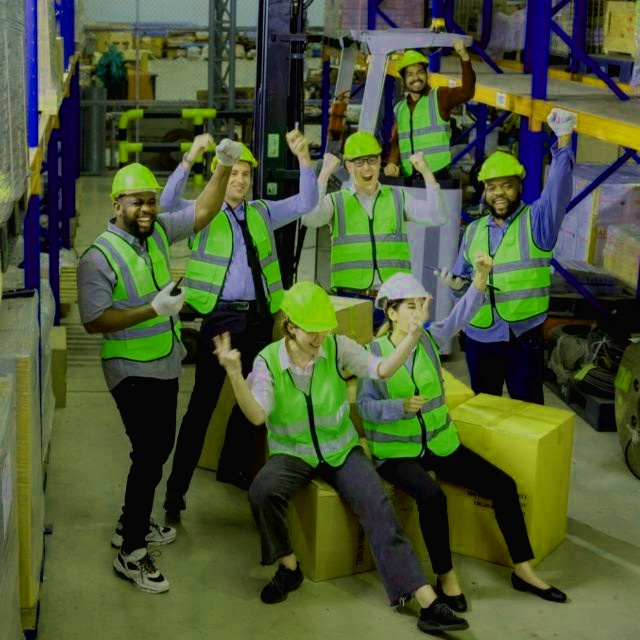Con_Chaleco: (85, 225, 177, 363), (363, 330, 450, 457), (459, 214, 547, 326), (324, 182, 412, 277)
